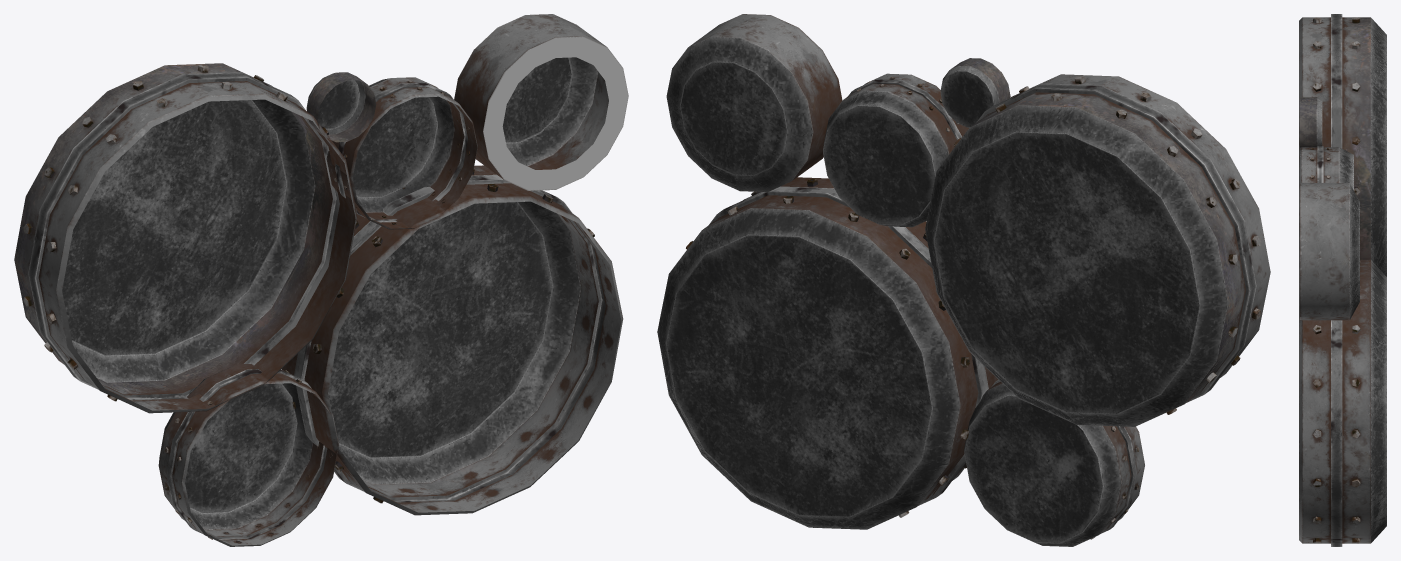
File: Sci-Fi PipelineCover.fbx
The picture shows the model from 3 angles, left to right: view 1: azimuth 30°, elevation 25°; view 2: azimuth 150°, elevation 25°; view 3: azimuth 270°, elevation 25°; orthographic projection. The views are drawn at different scales.
Parts seen in each view (by area): view 1: LinkRing.001; view 2: LinkRing.001; view 3: LinkRing.001.
Boxes of the visible parts, <box> form: LinkRing.001: <box>14,14,628,546</box>; LinkRing.001: <box>657,14,1270,546</box>; LinkRing.001: <box>1299,14,1386,546</box>.
Bounding box in the file's own units: 233 × 190 × 37.88.
